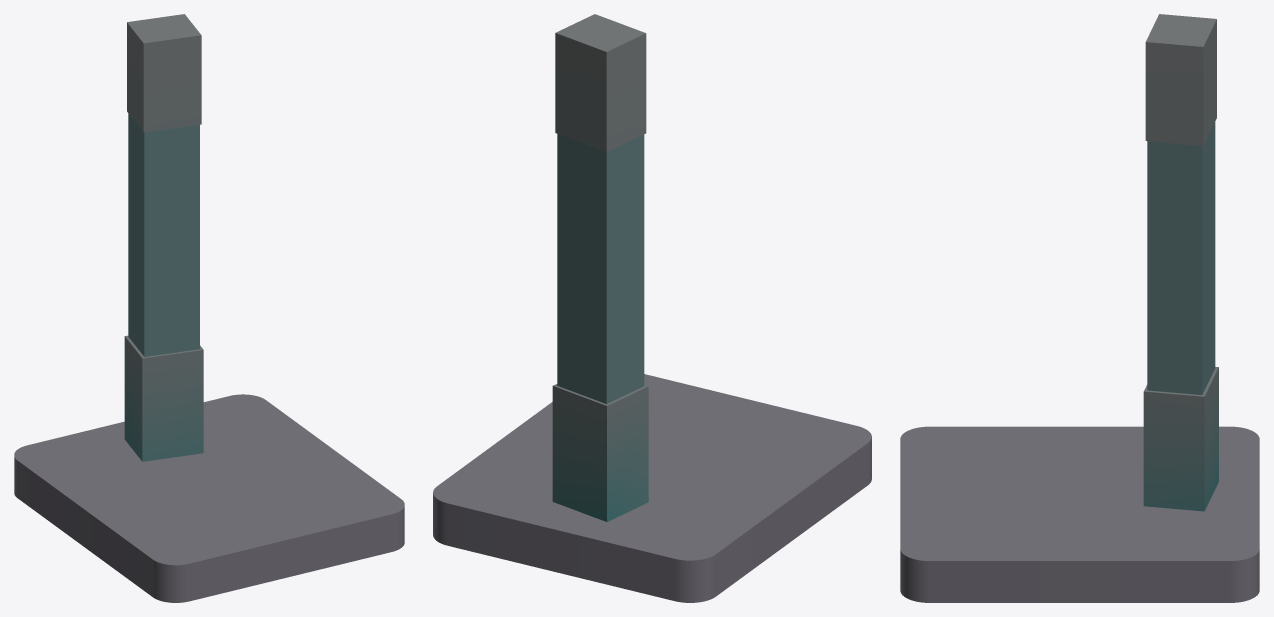
3 renders of one model, left to right at view 1: azimuth 30°, elevation 25°; view 2: azimuth 150°, elevation 25°; view 3: azimuth 270°, elevation 25°, orthographic. The views are drawn at different scales.
Visible parts, largest first — view 1: base, post, bottom_block, top_block; view 2: base, post, bottom_block, top_block; view 3: base, post, bottom_block, top_block.
Boxes of the visible parts, box(x1,y1,x2,y2) form: base: box(14, 394, 404, 602); post: box(128, 113, 199, 356); bottom_block: box(124, 335, 203, 461); top_block: box(127, 14, 201, 132); base: box(433, 374, 871, 602); post: box(557, 134, 644, 403); bottom_block: box(552, 384, 648, 521); top_block: box(555, 14, 646, 152); base: box(900, 426, 1259, 602); post: box(1147, 122, 1215, 394); bottom_block: box(1143, 367, 1218, 511); top_block: box(1145, 14, 1216, 145).
Size of the model in its own units: 0.3994 by 0.7 by 0.4509.
